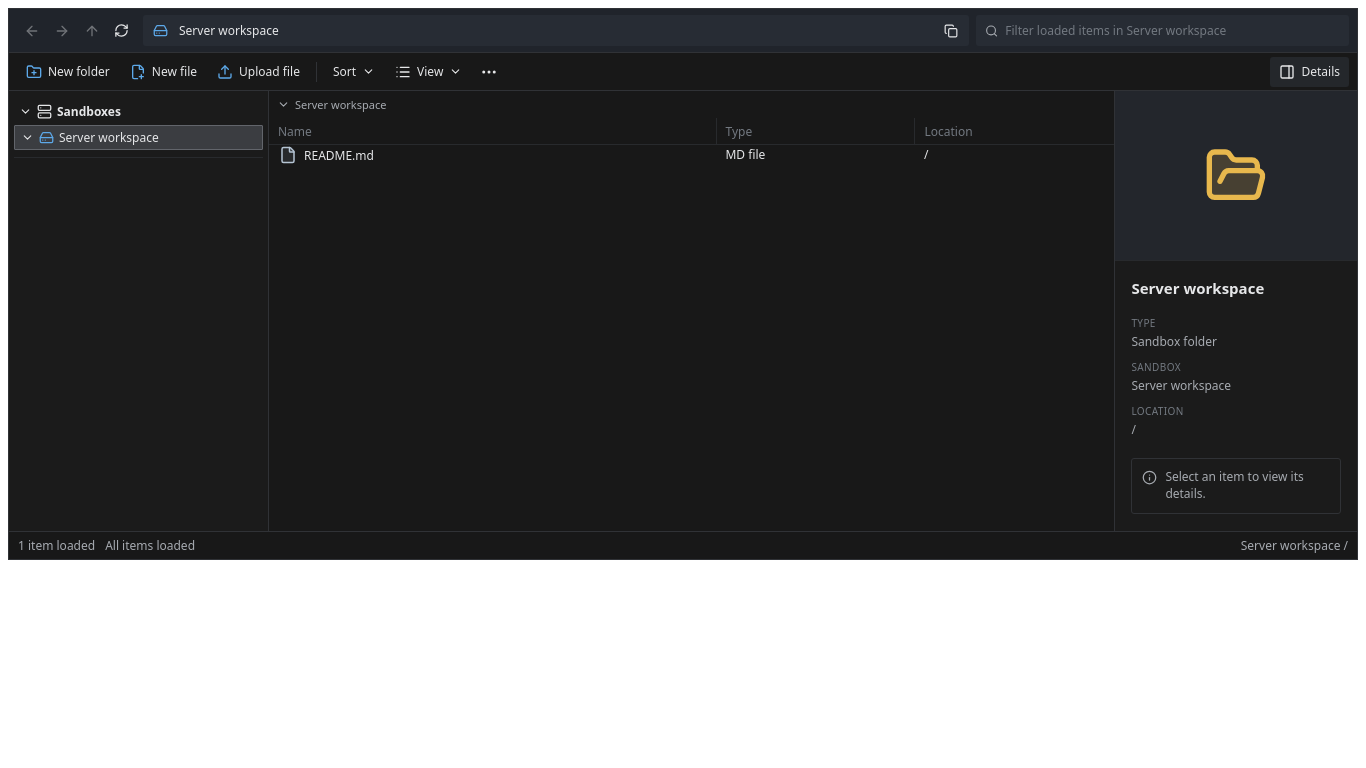
Scenario: SandboxExplorerView › preserves edited content when a revision conflict rejects saving
The image size is (1366, 768).
Double-click the button "README.md MD file /".
double_click(339, 155)  # box [269,145,1114,175]
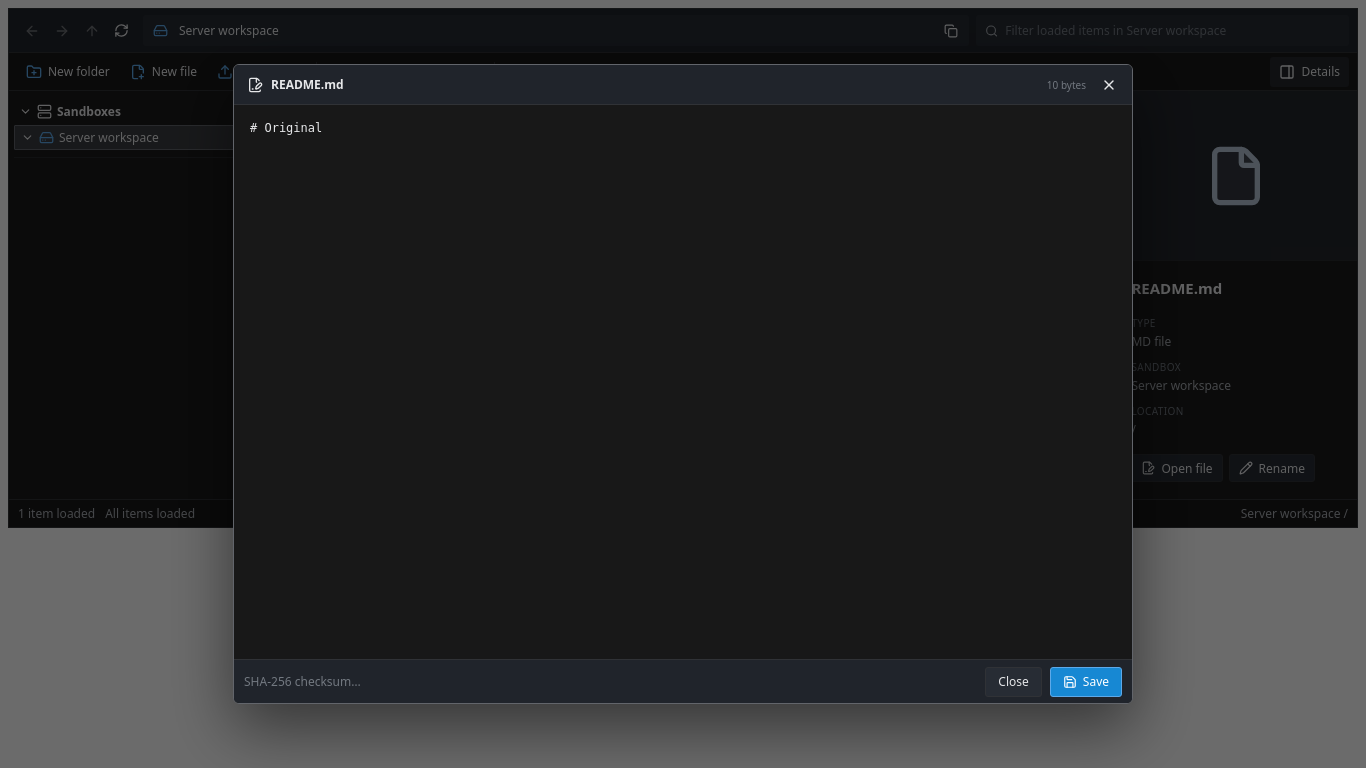
Replace the text in the text box named "File content" with "# Unsaved work" at coordinates (683, 382), box [234,105,1132,659]
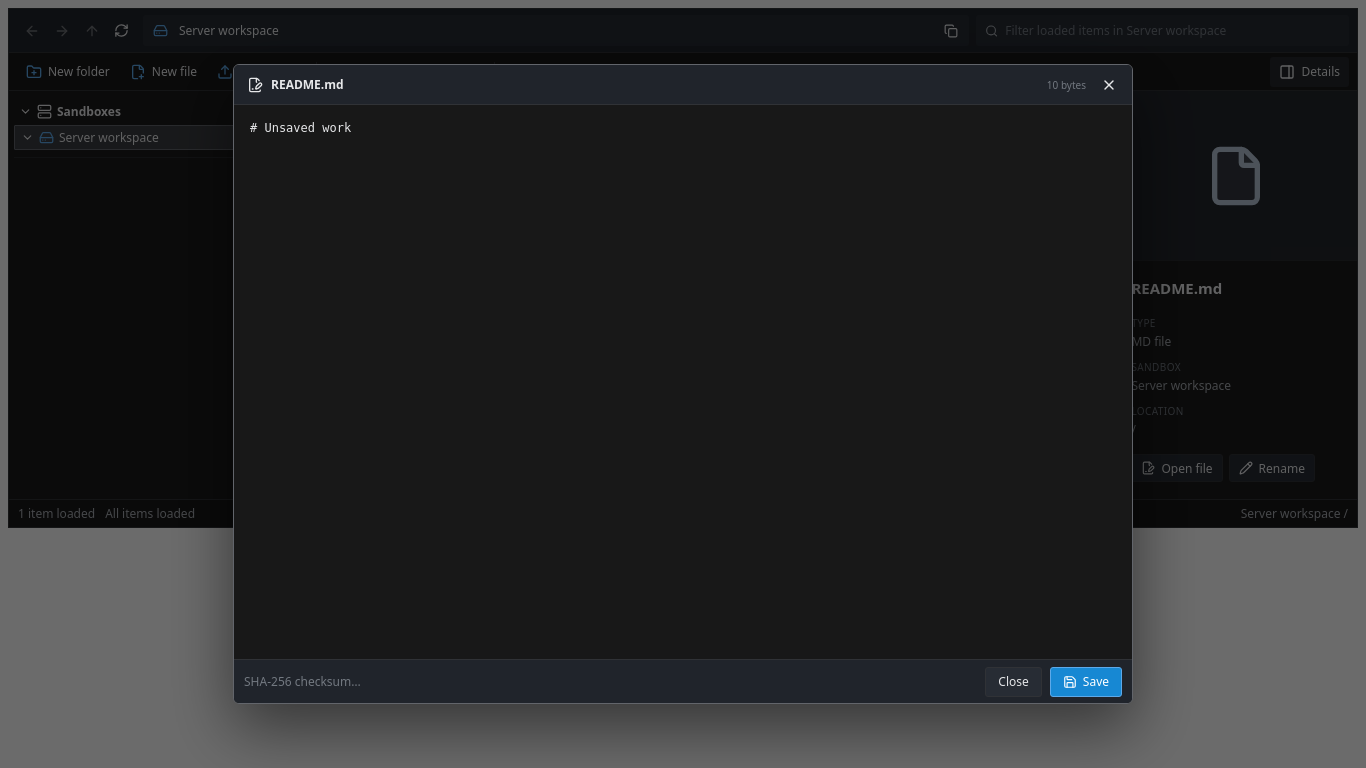
Click the button "Save".
click(1086, 682)  # box [1050,666,1122,696]
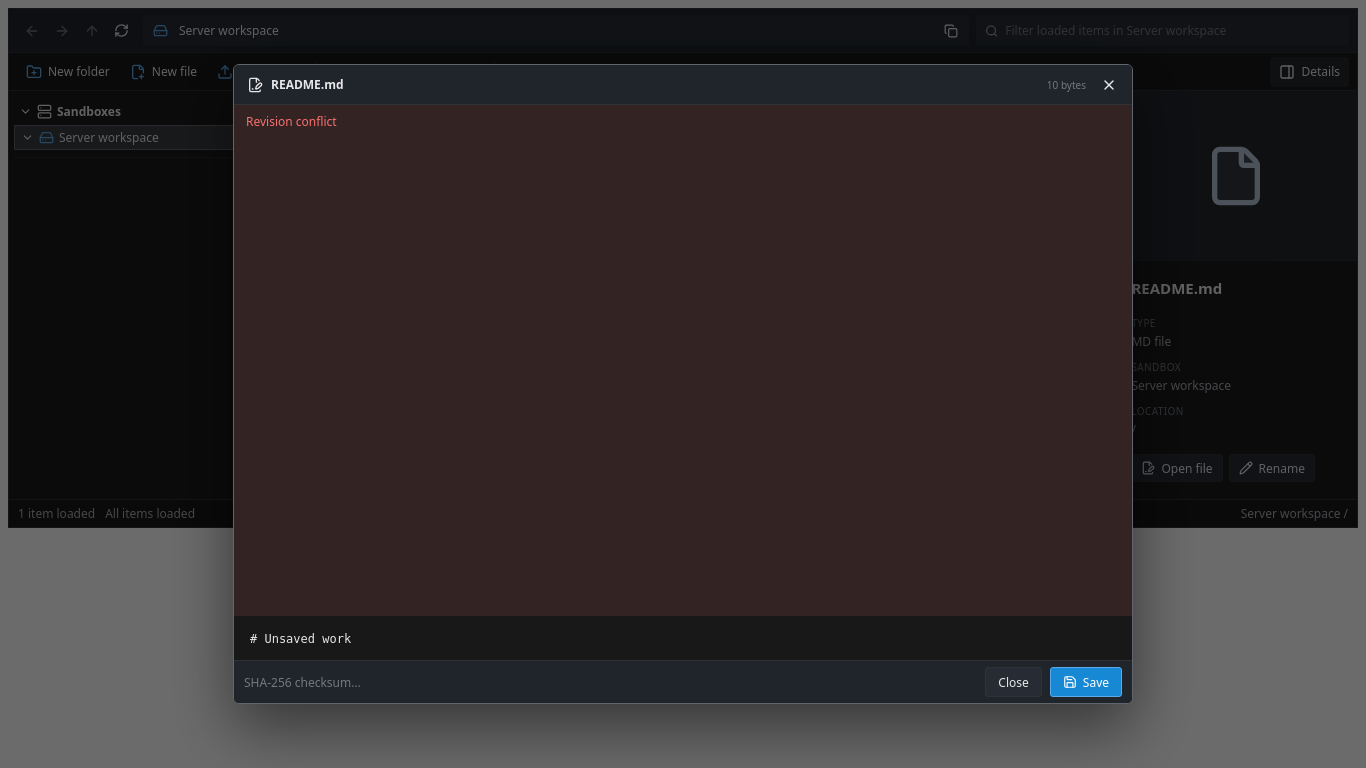
Result: the message reads "Revision conflict" at [246,113,337,130]
